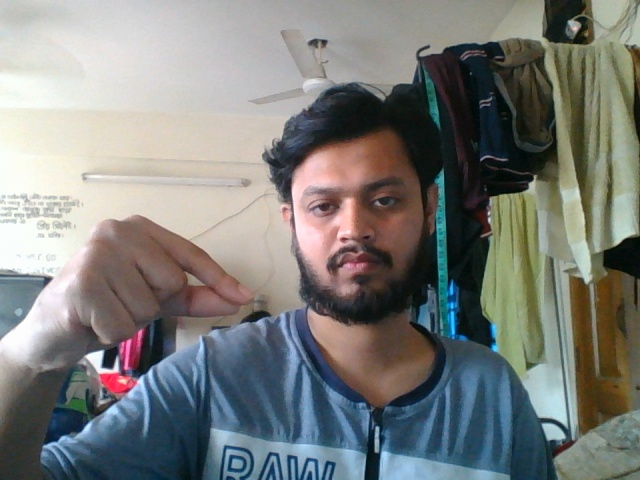onushhar: (2, 207, 273, 347)
